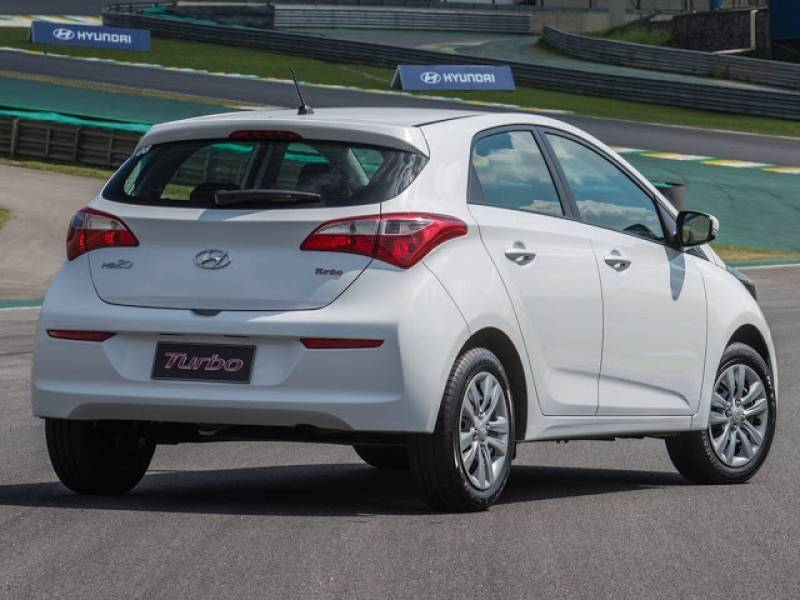Carro: (30, 99, 781, 511)
